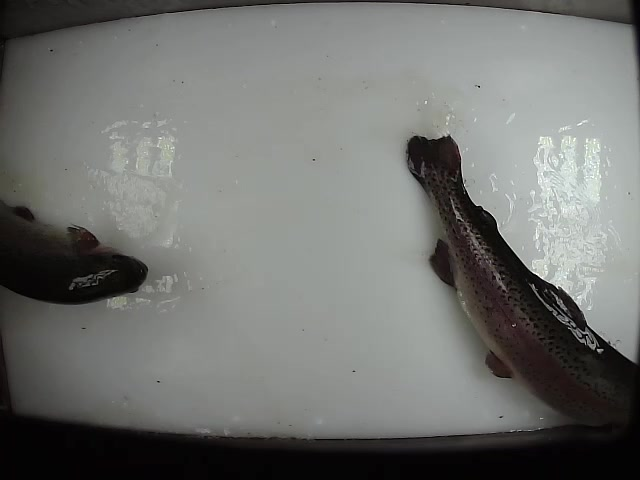fish: (402, 132, 640, 437), (1, 197, 150, 307)
